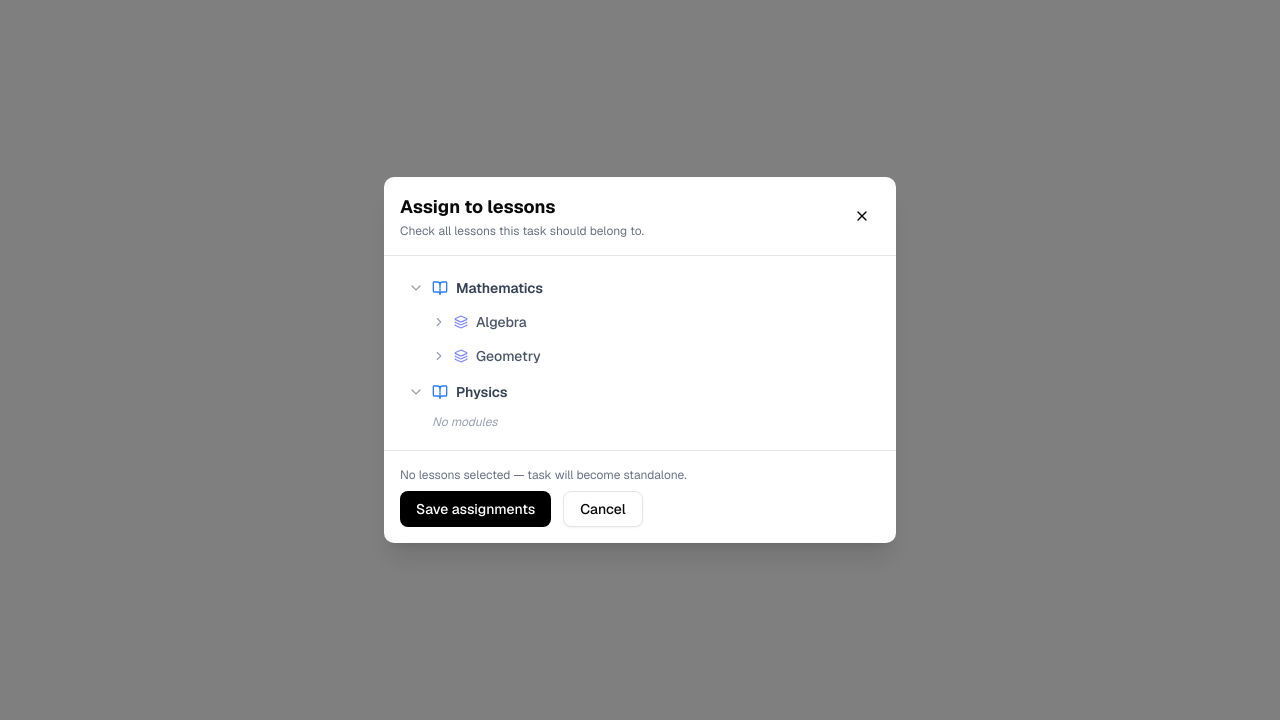
AssignToLessonDialog › expands courses to show modules
# All courses expanded by default → collapse first
Click the button with test id "course-course-1".
click(500, 288)  # box [400,272,880,304]
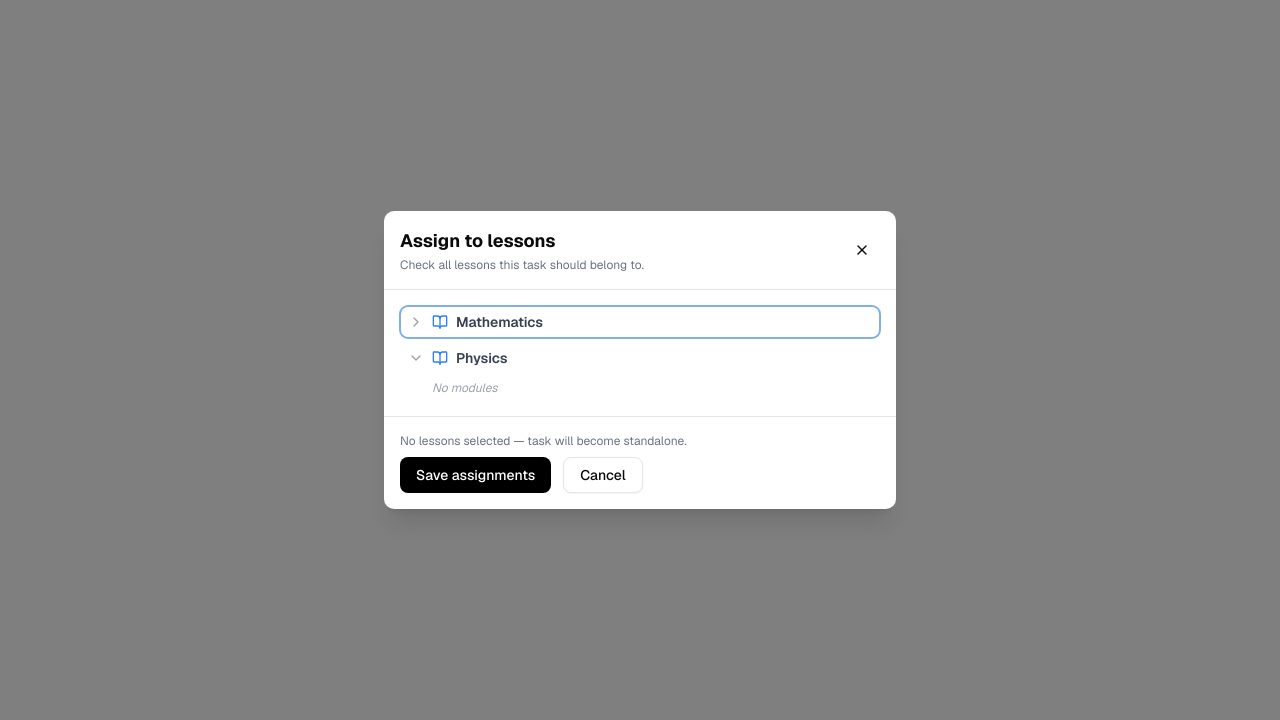
Expected: the button with test id "module-module-1" is gone
# Expand again
Click the button with test id "course-course-1".
click(500, 322)  # box [400,306,880,338]
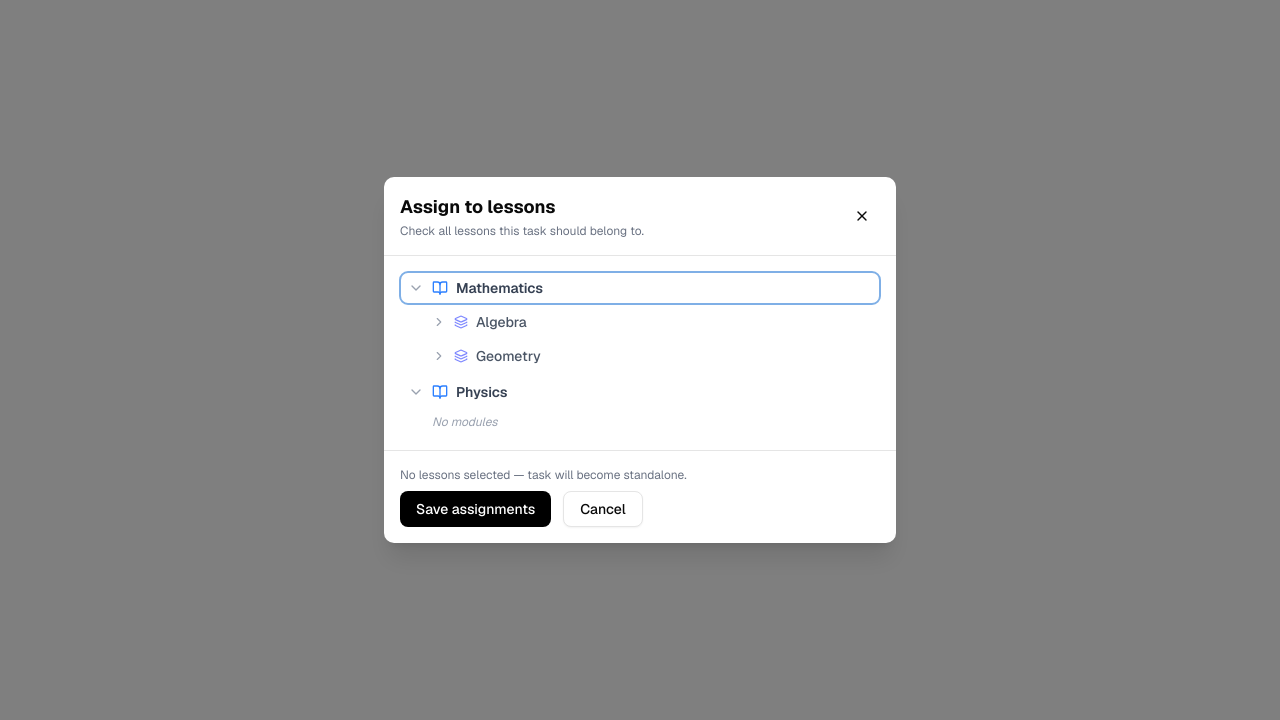
Expected: the button with test id "module-module-1" is shown, [424,306,880,338]
